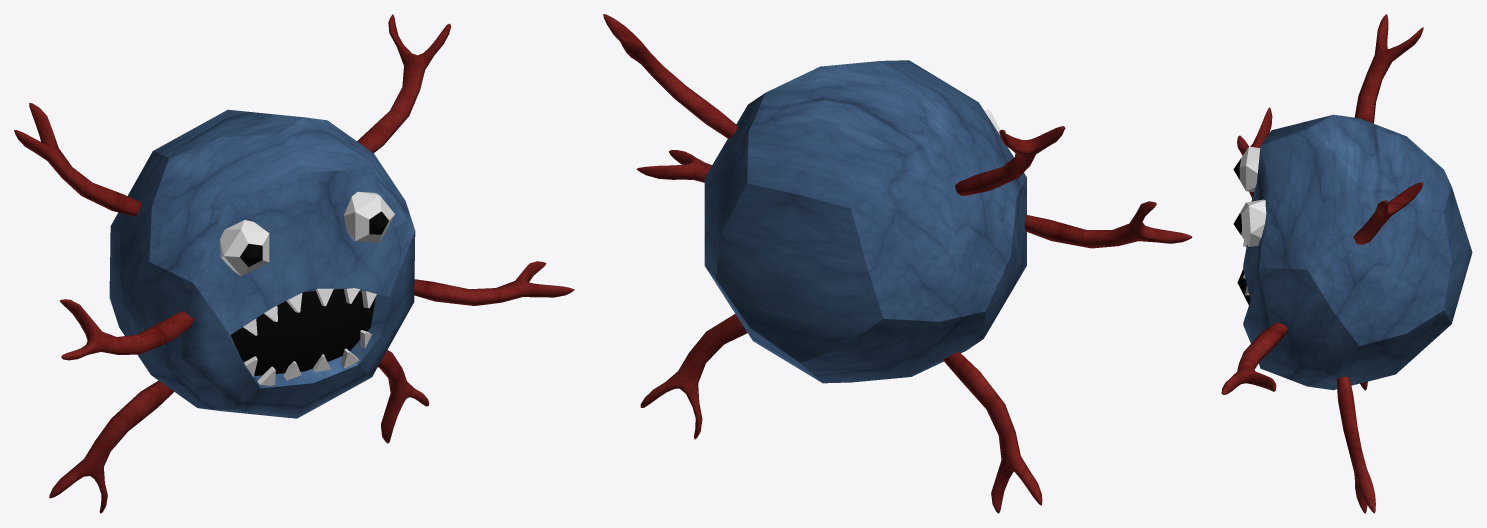
File: VirusEnemy.fbx
3 renders of one model, left to right at view 1: azimuth 30°, elevation 25°; view 2: azimuth 150°, elevation 25°; view 3: azimuth 270°, elevation 25°, orthographic. The views are drawn at different scales.
Visible parts, largest first — view 1: NeuronaEnemy; view 2: NeuronaEnemy; view 3: NeuronaEnemy.
Boxes of the visible parts, x1,y1,x2,y2 form: NeuronaEnemy: (14, 14, 574, 513); NeuronaEnemy: (603, 14, 1192, 513); NeuronaEnemy: (1221, 14, 1472, 513).
Size of the model in its own units: 44.09 by 33.01 by 21.6.
